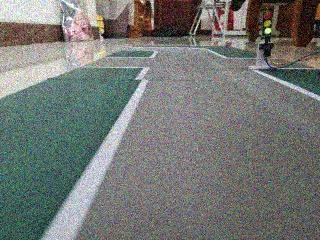green: (258, 4, 273, 48)
